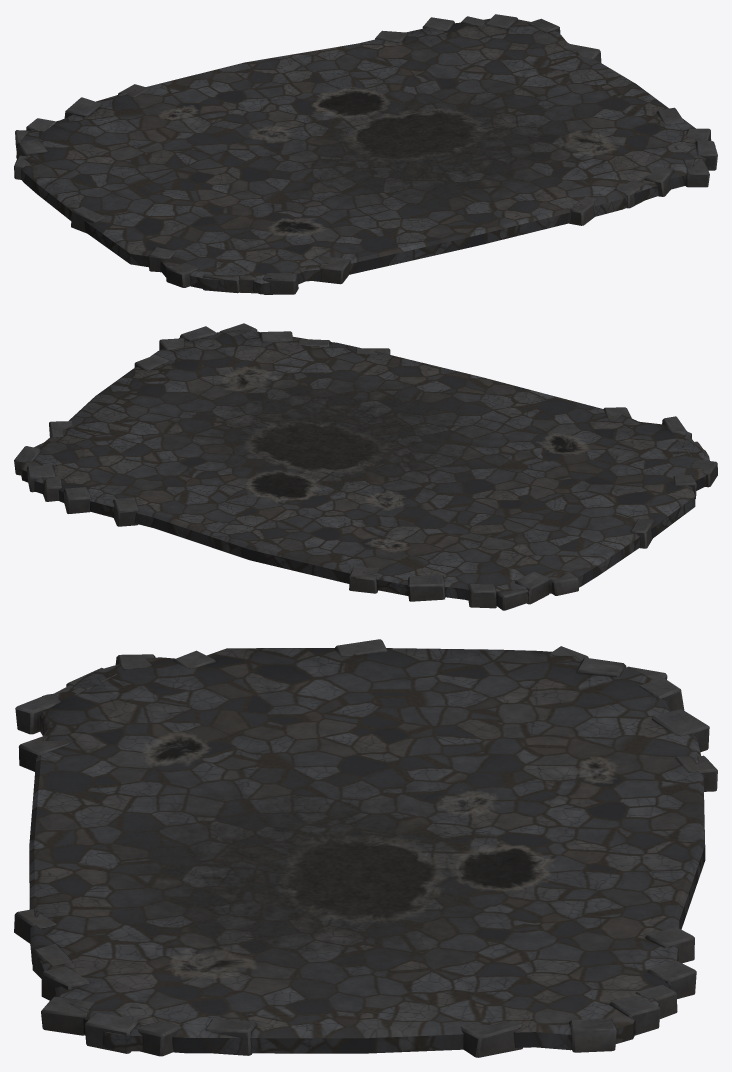
The model's file is forja_suelo.fbx.
3 views of the same model, one above another, from view 1: azimuth 30°, elevation 25°; view 2: azimuth 150°, elevation 25°; view 3: azimuth 270°, elevation 25° (orthographic). The views are drawn at different scales.
Visible parts, largest first — view 1: forja_suelo; view 2: forja_suelo; view 3: forja_suelo.
Boxes of the visible parts, x1,y1,x2,y2 form: forja_suelo: [14, 14, 717, 294]; forja_suelo: [14, 323, 717, 610]; forja_suelo: [14, 639, 717, 1057].
Size of the model in its own units: 27.81 by 0.8932 by 20.84.
Materials: 1 (1 with a texture image).
